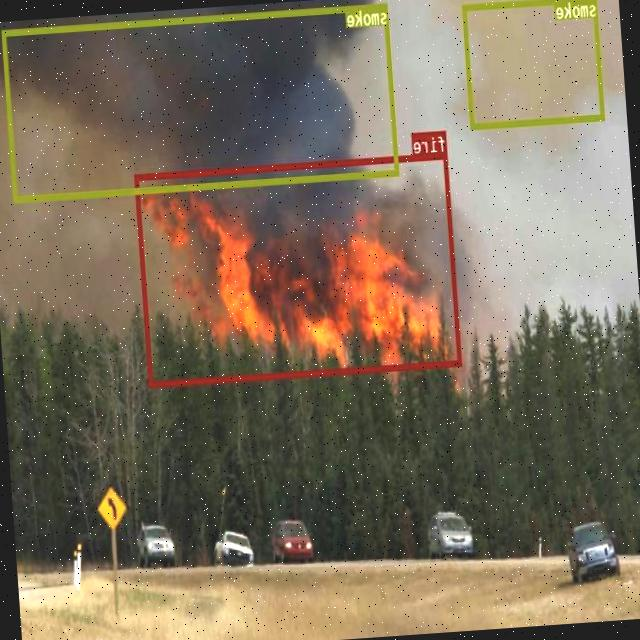fire: (135, 152, 462, 386)
smoke: (2, 1, 400, 202), (462, 0, 604, 128)
